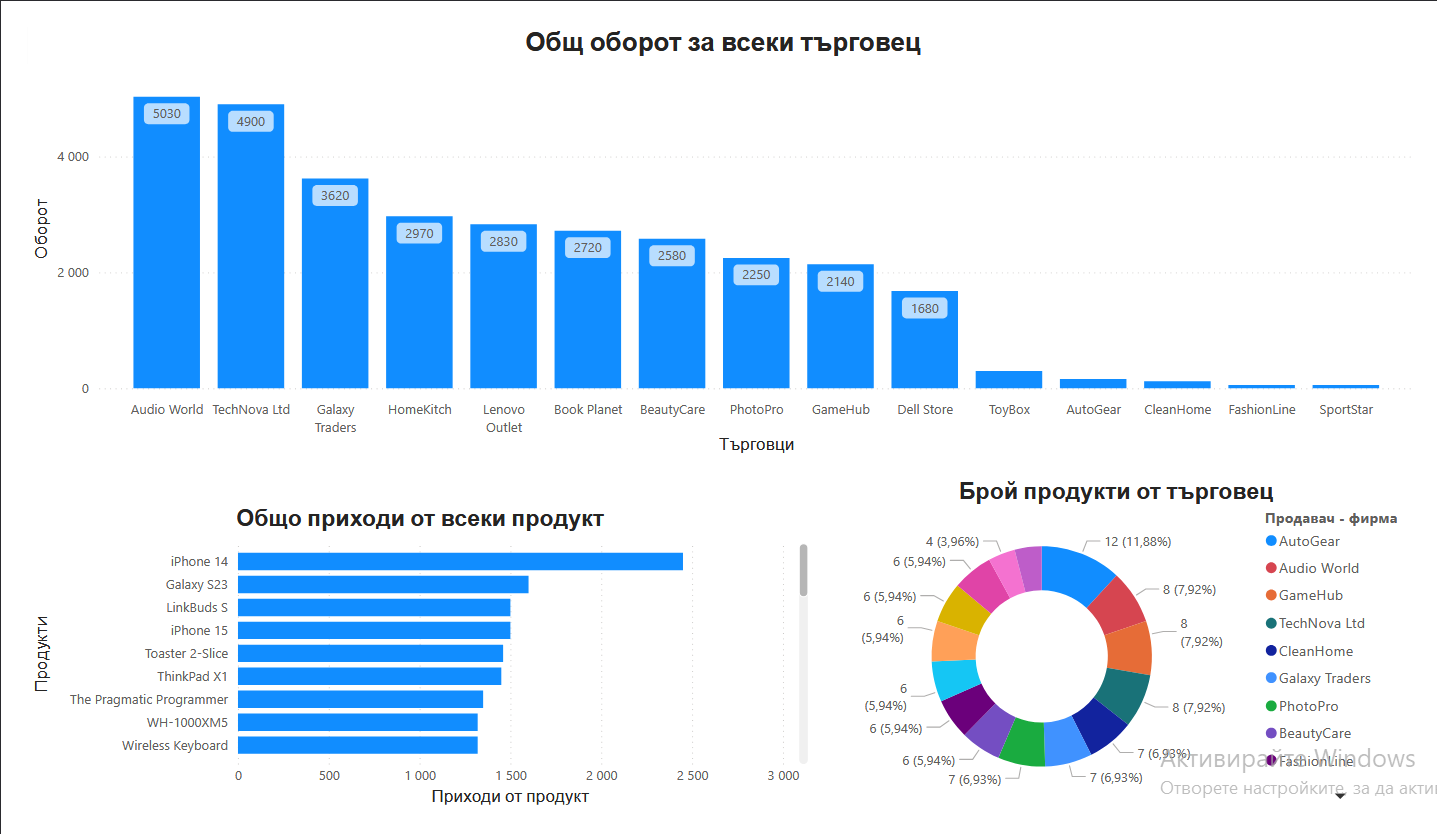

What the dashboard file says about the page in this screenshot:
{"tool":"powerbi","page":{"name":"Page 2","canvas":[1280,720],"ordinal":1},"visuals":[{"type":"clusteredBarChart","title":"Общо приходи от всеки продукт","fields":{"Category":["PRODUCT.NAME"],"Y":["CATEGORY.Total Sales"]},"box":[0,440,723.3,280],"z":0},{"type":"donutChart","title":"Брой продукти от търговец","fields":{"Category":["SELLER.COMPANY_NAME"],"Y":["CountNonNull(PRODUCT.PRODUCT_ID)"]},"box":[723.3,415,556.7,305],"z":1000},{"type":"lineClusteredColumnComboChart","title":"Общ оборот за всеки търговец","fields":{"Category":["SELLER.COMPANY_NAME"],"Y":["CATEGORY.TotalSalesOfSeller"]},"box":[0,0,1280,396.7],"z":1001}]}

Visuals, with their boxes on the page's 1280x720 design canvas (x1, y1, x2, y2). These are canvas units, not pixel positions in the 1437x834 screenshot, which may show the page scaled, cropped or inside an application window:
"Общо приходи от всеки продукт" clusteredBarChart: pyautogui.locateOnScreen(0, 440, 723, 720)
"Брой продукти от търговец" donutChart: pyautogui.locateOnScreen(723, 415, 1280, 720)
"Общ оборот за всеки търговец" lineClusteredColumnComboChart: pyautogui.locateOnScreen(0, 0, 1280, 397)
